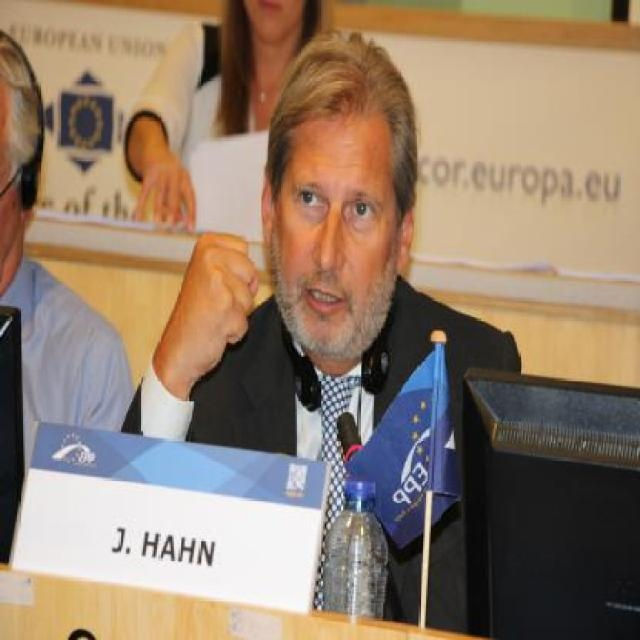obstacle: (121, 26, 522, 640), (0, 32, 137, 476), (122, 0, 330, 231)
